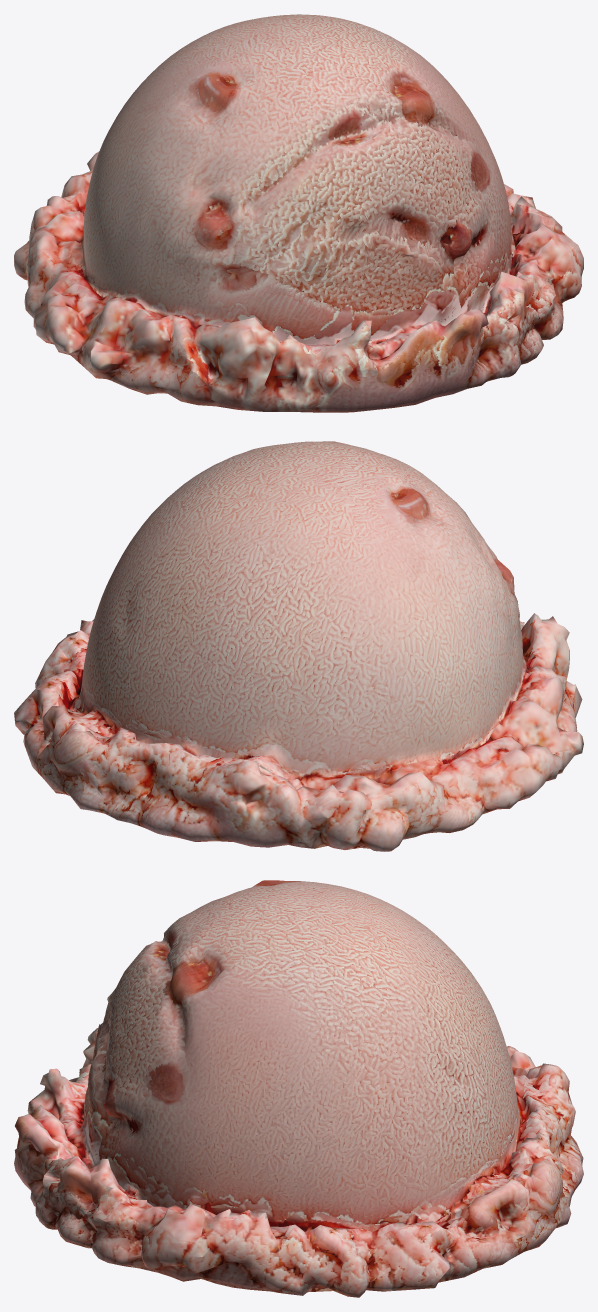
Rendered from s_icecream.fbx.
3 renders of one model, top to bottom at view 1: azimuth 30°, elevation 25°; view 2: azimuth 150°, elevation 25°; view 3: azimuth 270°, elevation 25°, orthographic.
Parts seen in each view (by area): view 1: texture_mapping; view 2: texture_mapping; view 3: texture_mapping.
Part boxes in pixels (x1,y1,x2,y2): texture_mapping: (14,14,583,412); texture_mapping: (14,441,583,851); texture_mapping: (14,880,583,1297).
Bounding box in the file's own units: 0.9964 × 0.9907 × 0.5331.
1 material, 1 textured.
